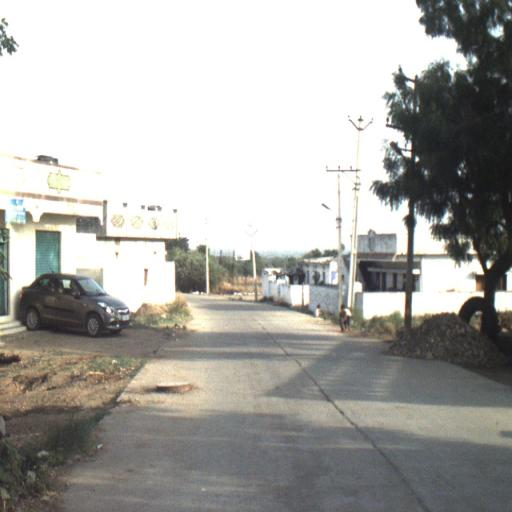street_light_0: (322, 203, 342, 231)
